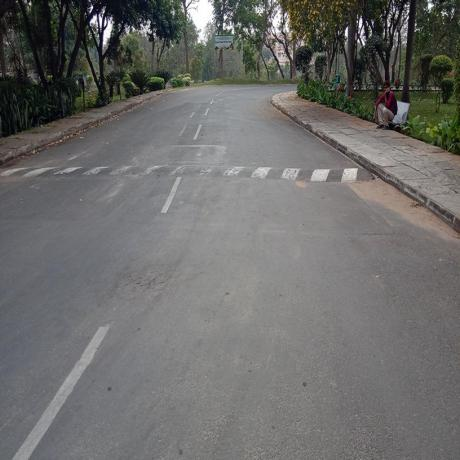Speed Bump: (0, 163, 378, 184)
